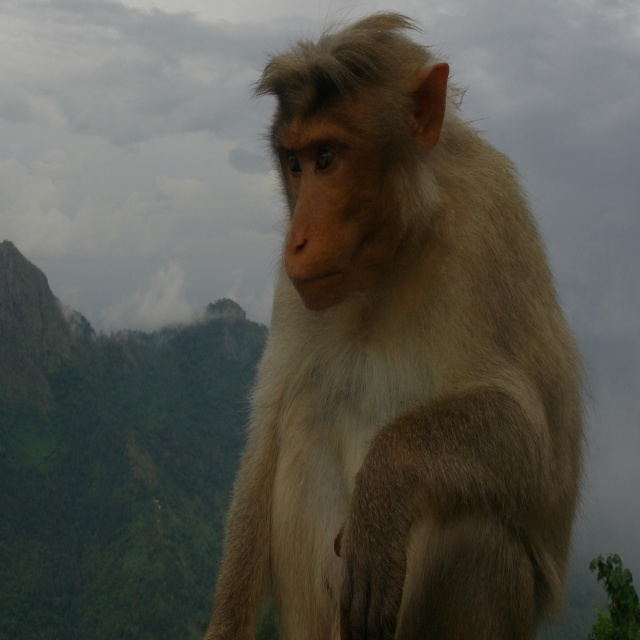Monkey: (206, 25, 596, 636)
